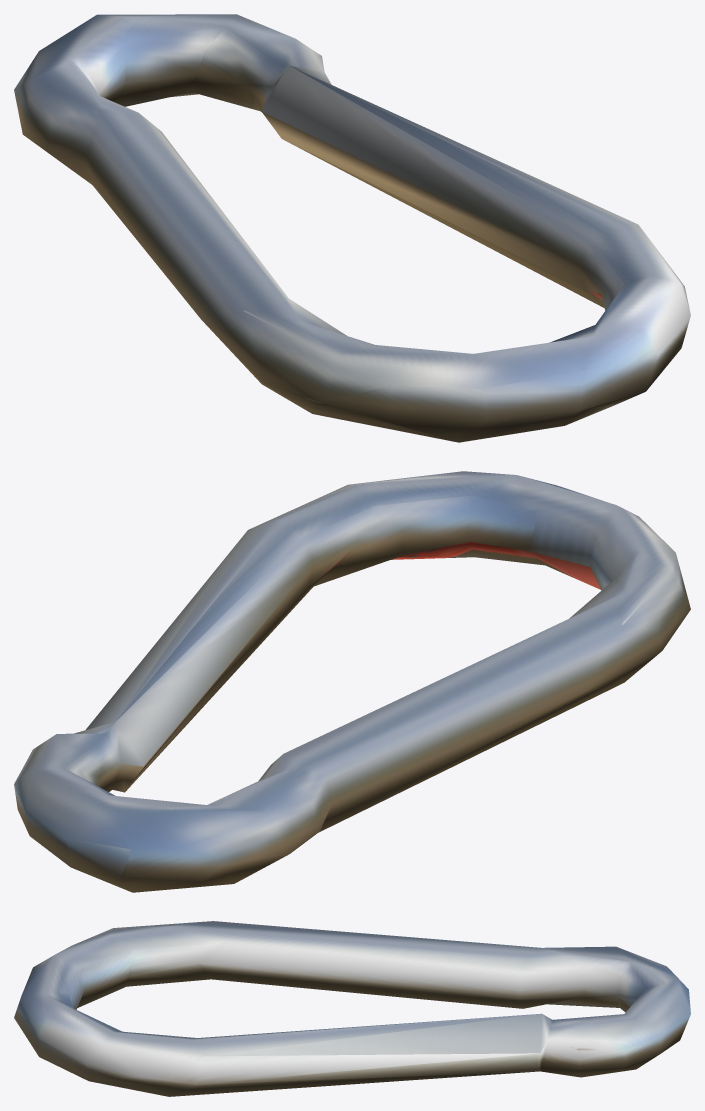
The model's file is WorldItem-AZCarabiner.fbx.
The picture shows the model from 3 angles, top to bottom: view 1: azimuth 30°, elevation 25°; view 2: azimuth 150°, elevation 25°; view 3: azimuth 270°, elevation 25°; orthographic projection. The views are drawn at different scales.
Visible parts, largest first — view 1: Carabiner; view 2: Carabiner; view 3: Carabiner.
Part boxes in pixels (left/top/right/bottom): Carabiner: left=14, top=14, right=690, bottom=442; Carabiner: left=14, top=471, right=690, bottom=892; Carabiner: left=14, top=921, right=690, bottom=1096.
Size of the model in its own units: 0.0707 by 0.0143 by 0.1438.
